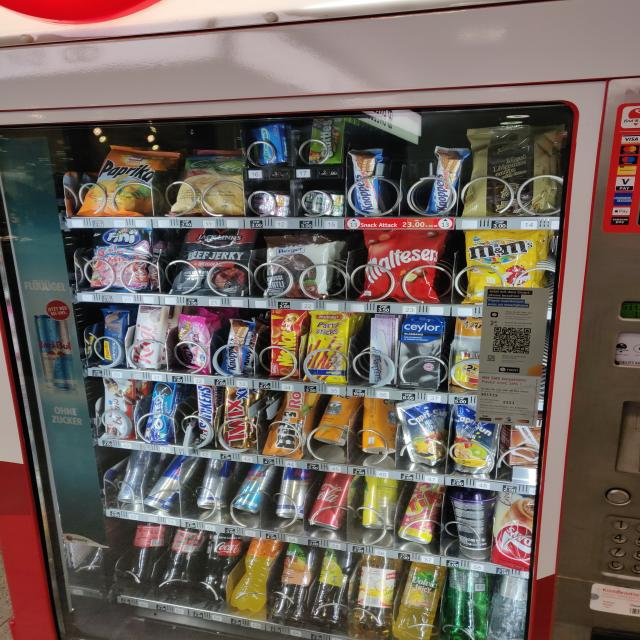7days_croissantschoko_packung_80_1_0000000000003: (492, 494, 539, 568)
airwaves_menthoneucalyptus_riegel_14_1_50173167: (249, 122, 290, 168)
bifi_roll__50__4251097402635: (260, 392, 315, 457)
bueno___43__4008400320328: (102, 376, 134, 439)
c-swiss_dosenabisicetea__33__9120025930135: (356, 399, 402, 455), (312, 399, 357, 446)
caferoyal_classicmacchiato__33__7617014164487: (452, 490, 497, 551)
caprisun_multivitamin__20__4000177605004: (397, 401, 450, 466), (450, 410, 501, 471)
coke__dose_33__54491472: (306, 475, 353, 532)
coke__flasche_50__54491472: (158, 530, 208, 588), (122, 526, 168, 582)
coke_zero_flasche_50__5449000131836: (198, 530, 244, 600)
comella_schokodrink__33__7613100037253: (505, 413, 548, 469)
fanta___50__40822938: (229, 539, 283, 612)
fini_galaxymix_packung_100_1_8410525150364: (90, 230, 156, 292)
fini_jellykisses_packung_80_1_8410525116704: (175, 314, 210, 374)
fuse_lemon__50__5449000235947: (308, 550, 355, 629)
fuse_lemon_dose_33__5449000235947: (357, 476, 400, 534)
fuse_peach__50__5449000236623: (275, 546, 316, 626)
jacklinks_beefjerkyorginal__25__4047751730219: (172, 228, 256, 296)
jlbrichard_gauffrechoko__90__5410495002079: (458, 123, 564, 219)
kagi___50__7610046000259: (129, 304, 172, 370)
knoppers_riegel____4035800488808: (218, 318, 255, 379)
lorenz_nicnacs__40__4018077798818: (265, 309, 308, 379)
malburner_partysticks__40__7610200279682: (306, 313, 350, 381)
maltesers___100__5000159023061: (356, 226, 451, 308)
mnms_gelb__45__40111445: (465, 230, 540, 307)
oreo___66__84100733: (140, 382, 180, 444)
powerbar_proteinplusschoko__55__4029679520028: (97, 309, 129, 368)
ramseier_schorle__50__7610057012456: (352, 557, 399, 637)
redbull___33__90162909: (143, 457, 188, 515), (114, 451, 153, 503), (276, 469, 316, 519), (198, 461, 233, 508)
redbull_light__33__90162800: (232, 467, 270, 514)
skittles_sour_riegel_51_1_0000000000004: (302, 110, 350, 166)
snickers___50__5000159461122: (194, 386, 218, 445)
stimorol_spearmint_riegel_14_1_0000000000005: (306, 192, 344, 214)
stimorol_wildcherry_riegel_14_1_57060330: (250, 189, 291, 217)
tiki_himbeer_brause__50__00000000009342: (398, 485, 443, 546)
twix___50__5000159459228: (219, 388, 254, 449)
valser_classic__50__76404160: (444, 571, 490, 640)
valser_still__50__7610335002575: (488, 574, 530, 640)
volvic_pinapple__50__305764335648: (394, 562, 446, 640)
zweifel_graneochilli__100__7610095184009: (170, 146, 247, 216)
zweifel_paprika__90__7610095013002: (77, 146, 168, 217)
